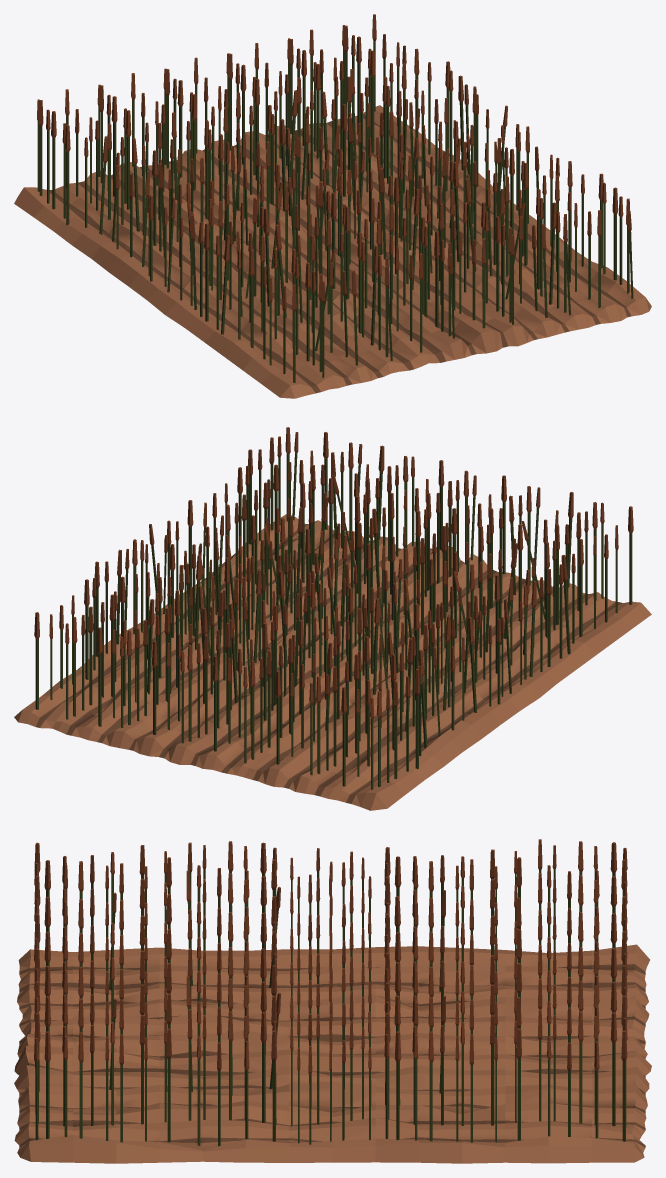
Rendered from Field_Wheat_L Village.fbx.
3 renders of one model, top to bottom at view 1: azimuth 30°, elevation 25°; view 2: azimuth 150°, elevation 25°; view 3: azimuth 270°, elevation 25°, orthographic. The views are drawn at different scales.
Parts seen in each view (by area): view 1: Field_L.001; view 2: Field_L.001; view 3: Field_L.001.
Part boxes in pixels (x1,y1,x2,y2): Field_L.001: (14,14,651,398); Field_L.001: (14,427,651,810); Field_L.001: (14,839,651,1163).
Bounding box in the file's own units: 10.49 × 2.88 × 13.46.
